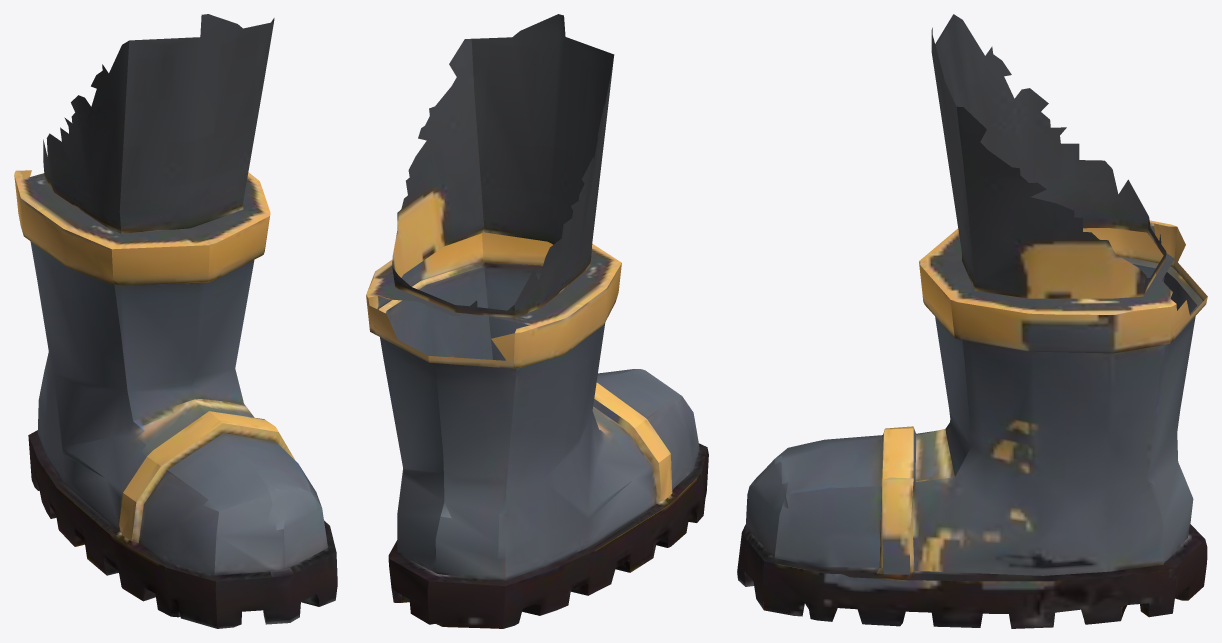
Rendered from templar_boot_B.glb.
3 views of the same model, side by side, from view 1: azimuth 30°, elevation 25°; view 2: azimuth 150°, elevation 25°; view 3: azimuth 270°, elevation 25° (orthographic). The views are drawn at different scales.
Visible parts, largest first — view 1: boot_R; view 2: boot_R; view 3: boot_R.
Boxes of the visible parts, left/top/right/bottom form: boot_R: left=14, top=14, right=337, bottom=628; boot_R: left=366, top=14, right=708, bottom=628; boot_R: left=737, top=14, right=1207, bottom=628.
Size of the model in its own units: 0.138 by 0.3487 by 0.2666.
1 material, 1 textured.
